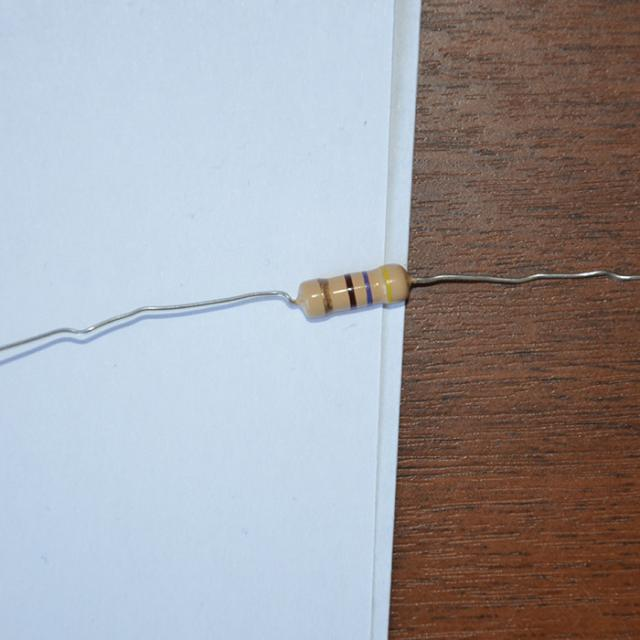brown: (347, 275, 355, 306)
gold: (321, 279, 331, 314)
resistor: (290, 250, 414, 326)
violet: (363, 272, 372, 304)
yellow: (384, 267, 389, 302)
